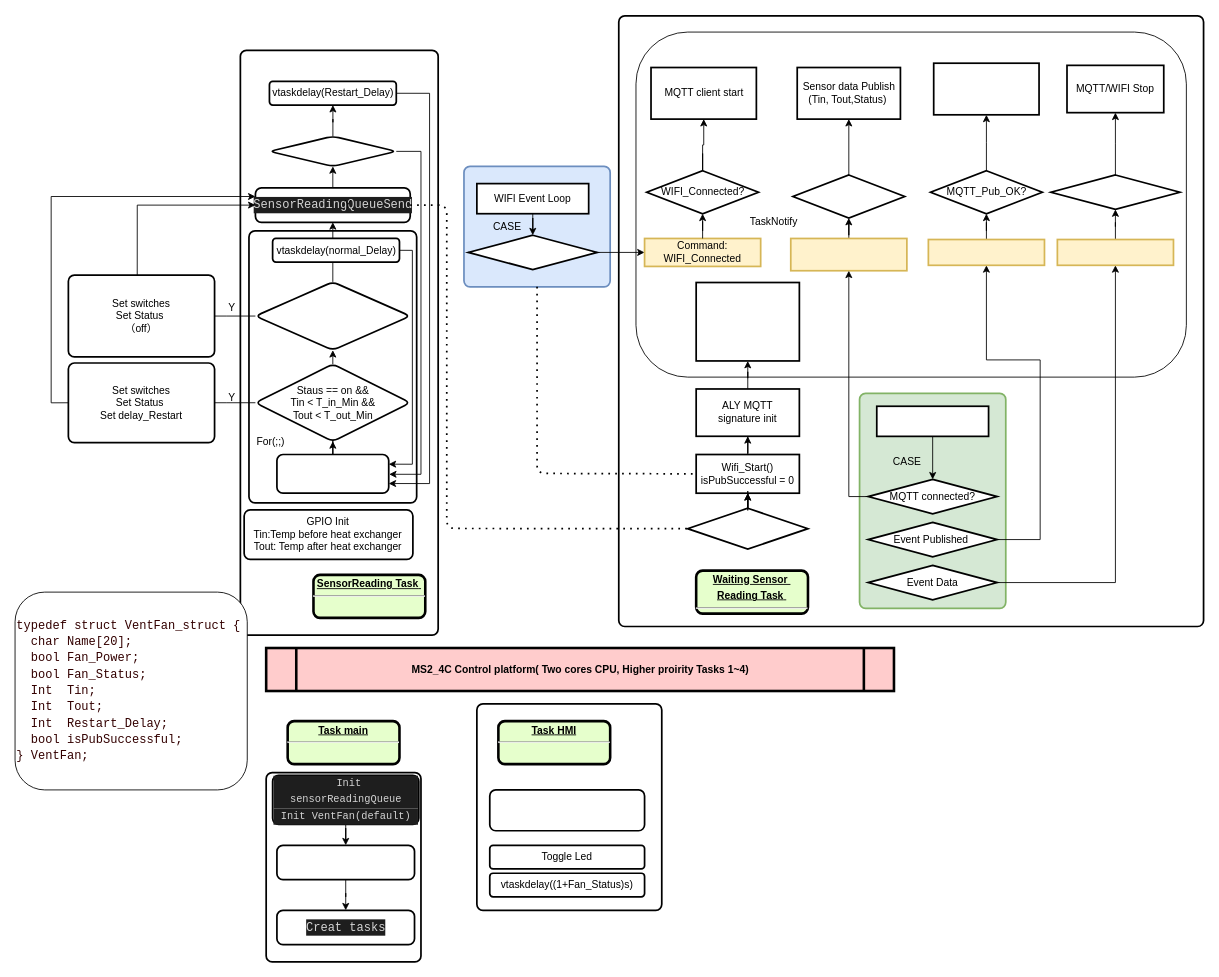
This 1219x977 diagram has some shape labels left out. The centre of each missing label's shape, as x and y in pixels:
Code = 200: (1115,192)
Command: MQTT Pub succssed: (986,252)
Command: MQTT Pub verified: (1115,252)
Command: MQTT_Connected: (848,254)
delay_Restart?: (332,151)
GPIO Init Led_Pin: 22: (566,810)
isPubSuccessful =1: (985,88)
MQTT Event Loop cb: (932,421)
MQTT_Connected?: (848,196)
MQTT_start MQTT connect MQTT Pub: (747,321)
QUEUEReceived: (747,528)
Status == off && Timer1 overflow: (332,316)
Tin / Tout reading...: (332,473)
WIFI connected?: (532,252)
wifiInit(): (345,862)
